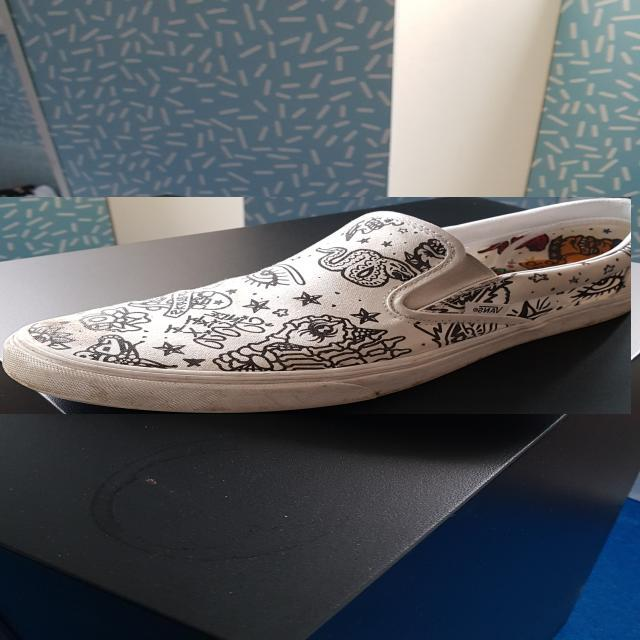shoe: (0, 197, 631, 414)
